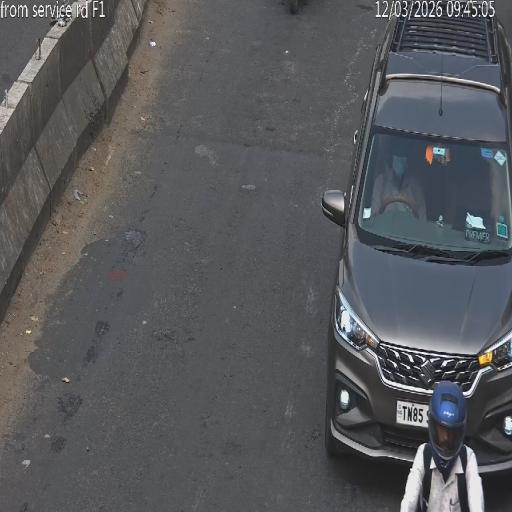person_with_seatbelt: (380, 151, 408, 217)
